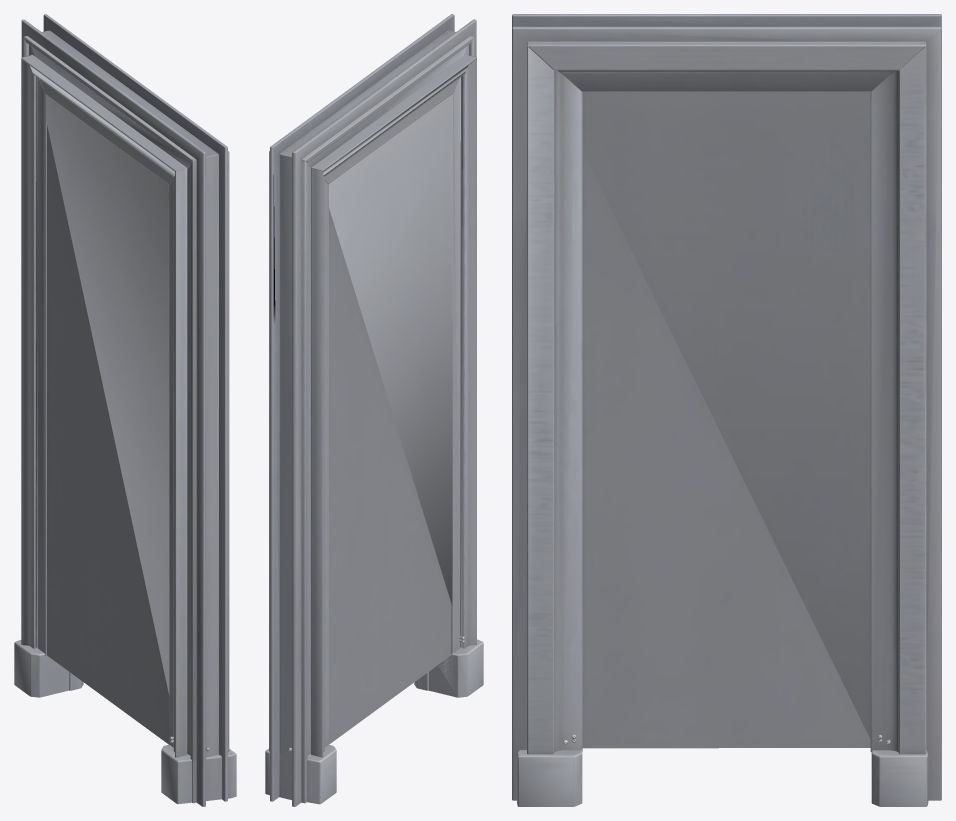
File: tripo_convert_367cdaec-7599-4da1-ae9c-0a7432acc49c.fbx
3 renders of one model, left to right at view 1: azimuth 30°, elevation 25°; view 2: azimuth 150°, elevation 25°; view 3: azimuth 270°, elevation 25°, orthographic. The views are drawn at different scales.
Parts seen in each view (by area): view 1: tripo_part_6, tripo_part_77, tripo_part_0, tripo_part_3, tripo_part_26, tripo_part_55, tripo_part_52, tripo_part_2, tripo_part_9, tripo_part_59, tripo_part_56, tripo_part_50; view 2: tripo_part_6, tripo_part_77, tripo_part_0, tripo_part_3, tripo_part_26, tripo_part_55, tripo_part_52, tripo_part_2, tripo_part_9, tripo_part_43, tripo_part_59; view 3: tripo_part_9, tripo_part_0, tripo_part_78, tripo_part_26, tripo_part_3, tripo_part_2.
Part boxes in pixels (x1,y1,x2,y2): tripo_part_6: [21, 45, 190, 757]; tripo_part_77: [47, 125, 169, 744]; tripo_part_0: [23, 30, 229, 803]; tripo_part_3: [21, 19, 205, 806]; tripo_part_26: [43, 14, 227, 801]; tripo_part_55: [38, 78, 173, 652]; tripo_part_52: [43, 89, 173, 747]; tripo_part_2: [161, 744, 236, 804]; tripo_part_9: [14, 640, 83, 697]; tripo_part_59: [26, 42, 192, 802]; tripo_part_56: [45, 118, 46, 655]; tripo_part_50: [46, 123, 46, 655]; tripo_part_6: [307, 45, 476, 757]; tripo_part_77: [329, 208, 451, 744]; tripo_part_0: [269, 30, 474, 803]; tripo_part_3: [292, 19, 476, 806]; tripo_part_26: [270, 14, 454, 801]; tripo_part_55: [324, 78, 460, 746]; tripo_part_52: [325, 93, 459, 744]; tripo_part_2: [414, 639, 483, 697]; tripo_part_9: [265, 744, 336, 804]; tripo_part_43: [305, 42, 472, 758]; tripo_part_59: [308, 38, 473, 161]; tripo_part_9: [582, 70, 928, 806]; tripo_part_0: [527, 41, 926, 754]; tripo_part_78: [582, 151, 870, 748]; tripo_part_26: [512, 26, 941, 800]; tripo_part_3: [512, 14, 941, 27]; tripo_part_2: [517, 750, 582, 806].
Bounding box in the file's own units: 0.0845 × 0.9995 × 0.5044.
Materials: 1 (1 with a texture image).
